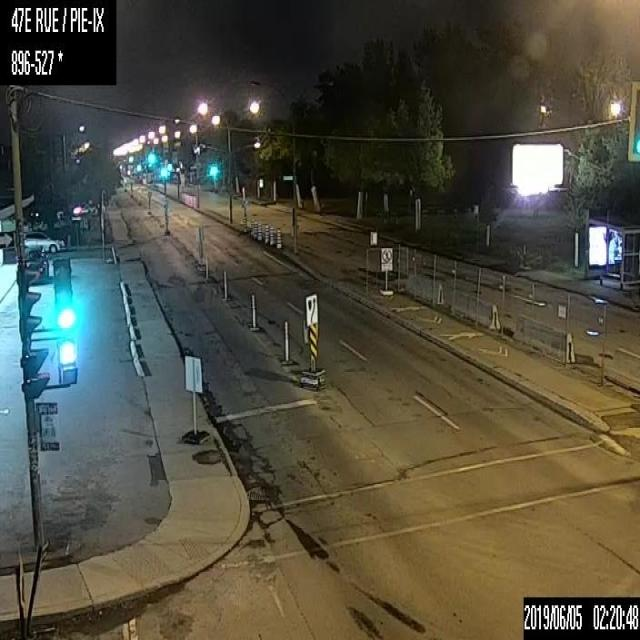construction: (284, 320, 288, 361), (251, 293, 255, 327), (252, 221, 258, 238), (264, 224, 269, 242), (277, 228, 281, 249), (223, 271, 226, 297), (270, 226, 274, 244), (258, 223, 262, 240), (205, 256, 208, 277)
vehicle: (16, 246, 49, 281), (23, 231, 64, 251)
